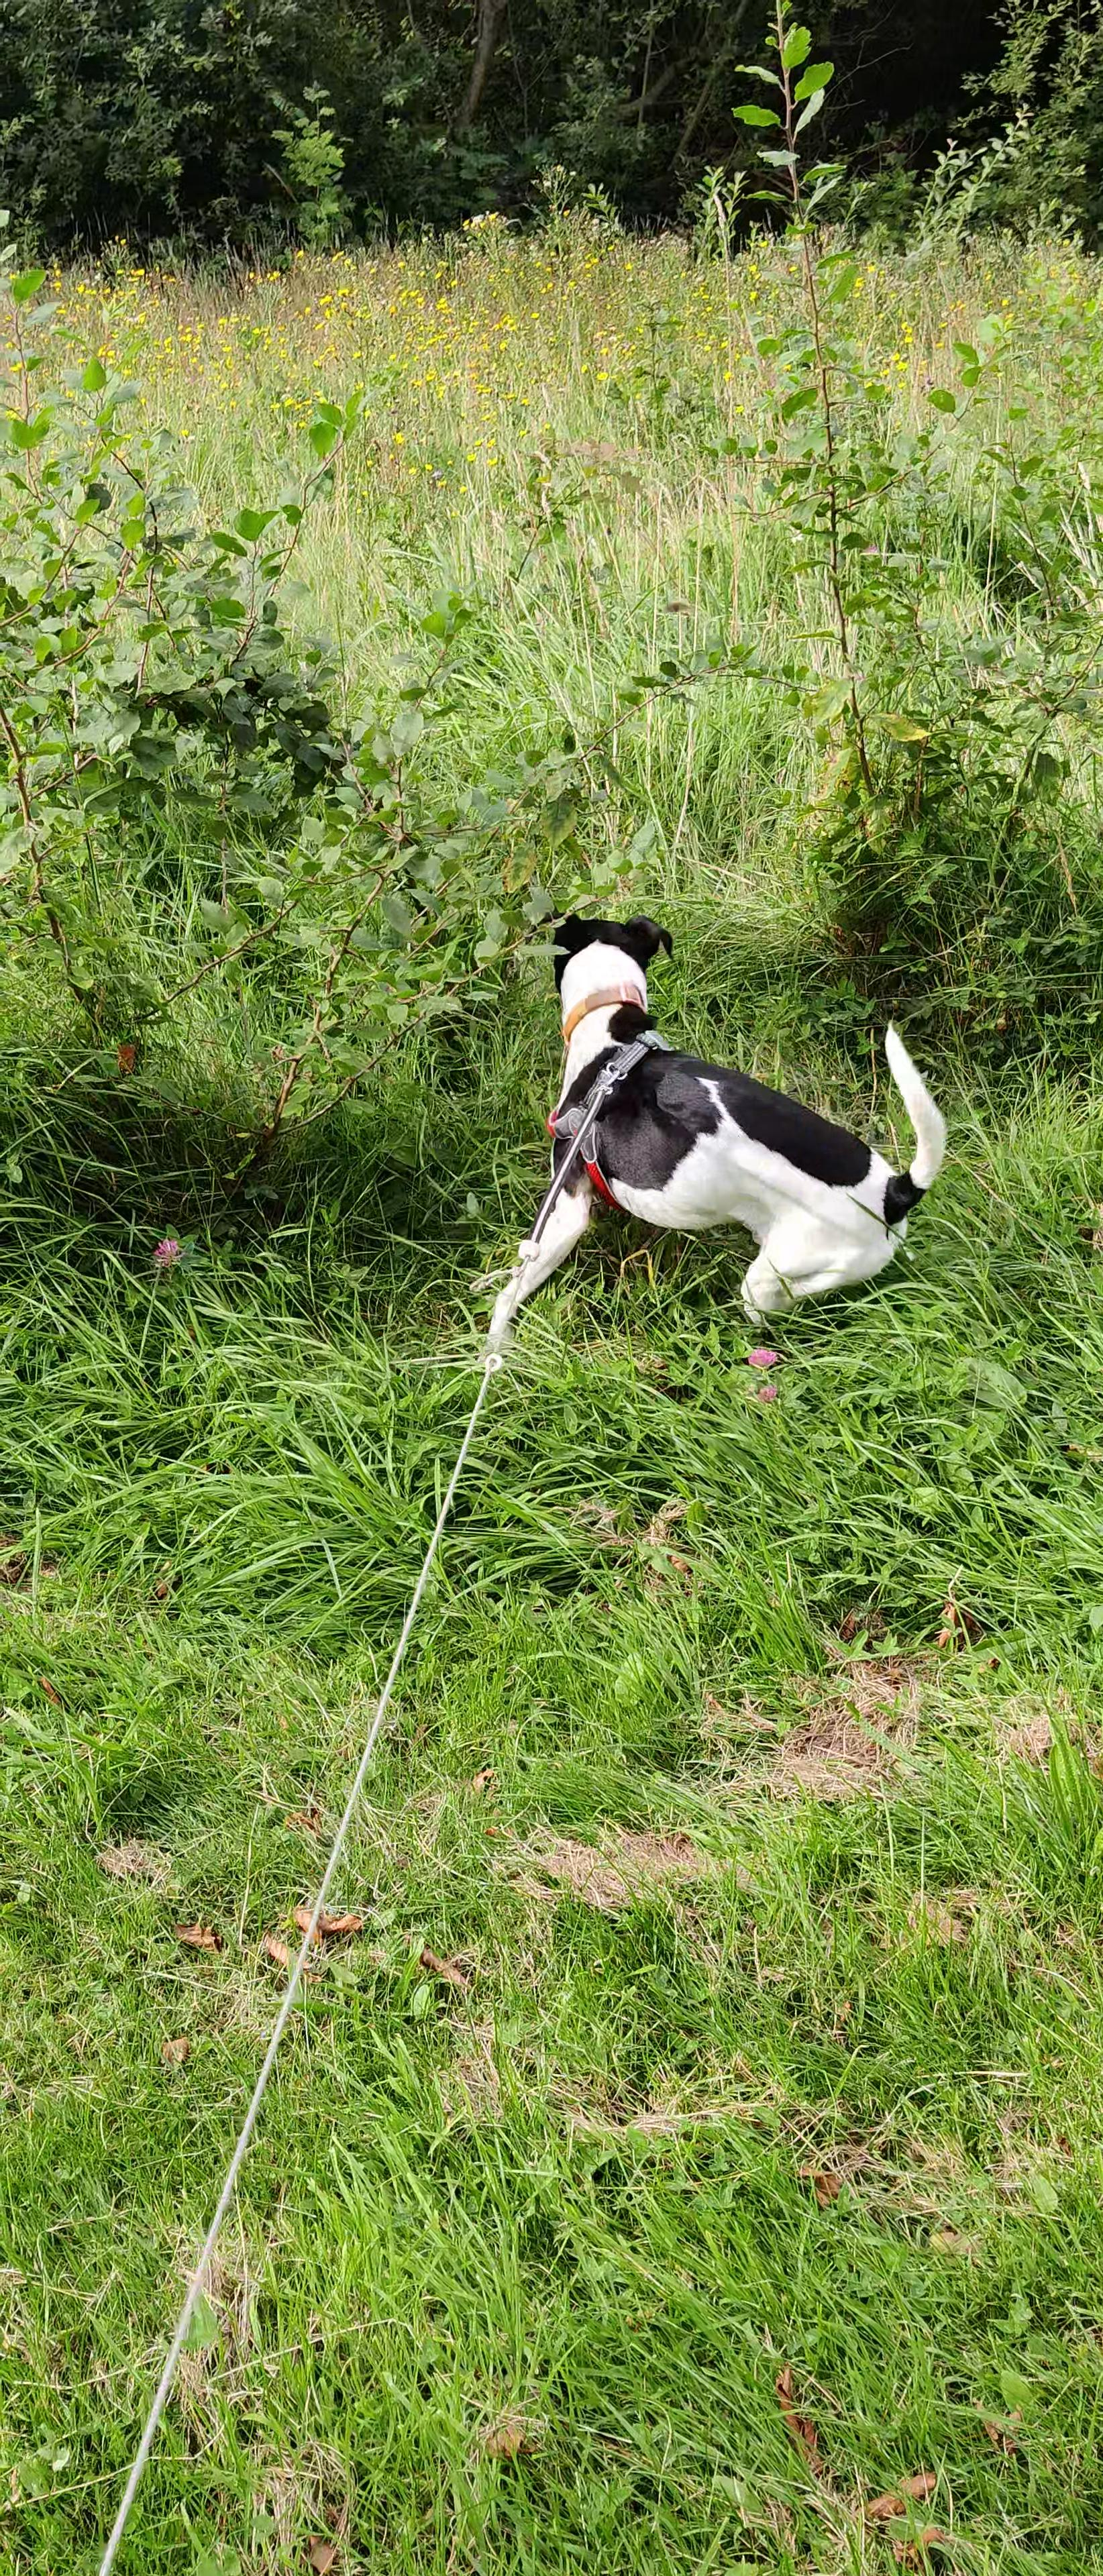Dog: (477, 900, 960, 1362)
